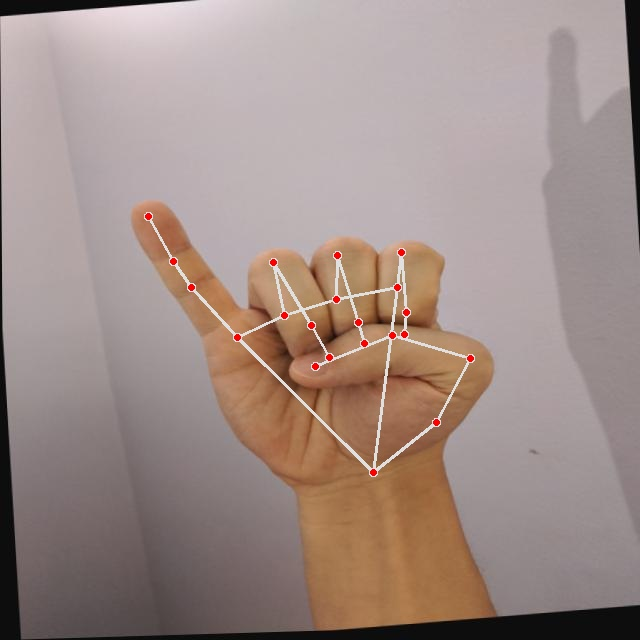I: (122, 171, 507, 506)
